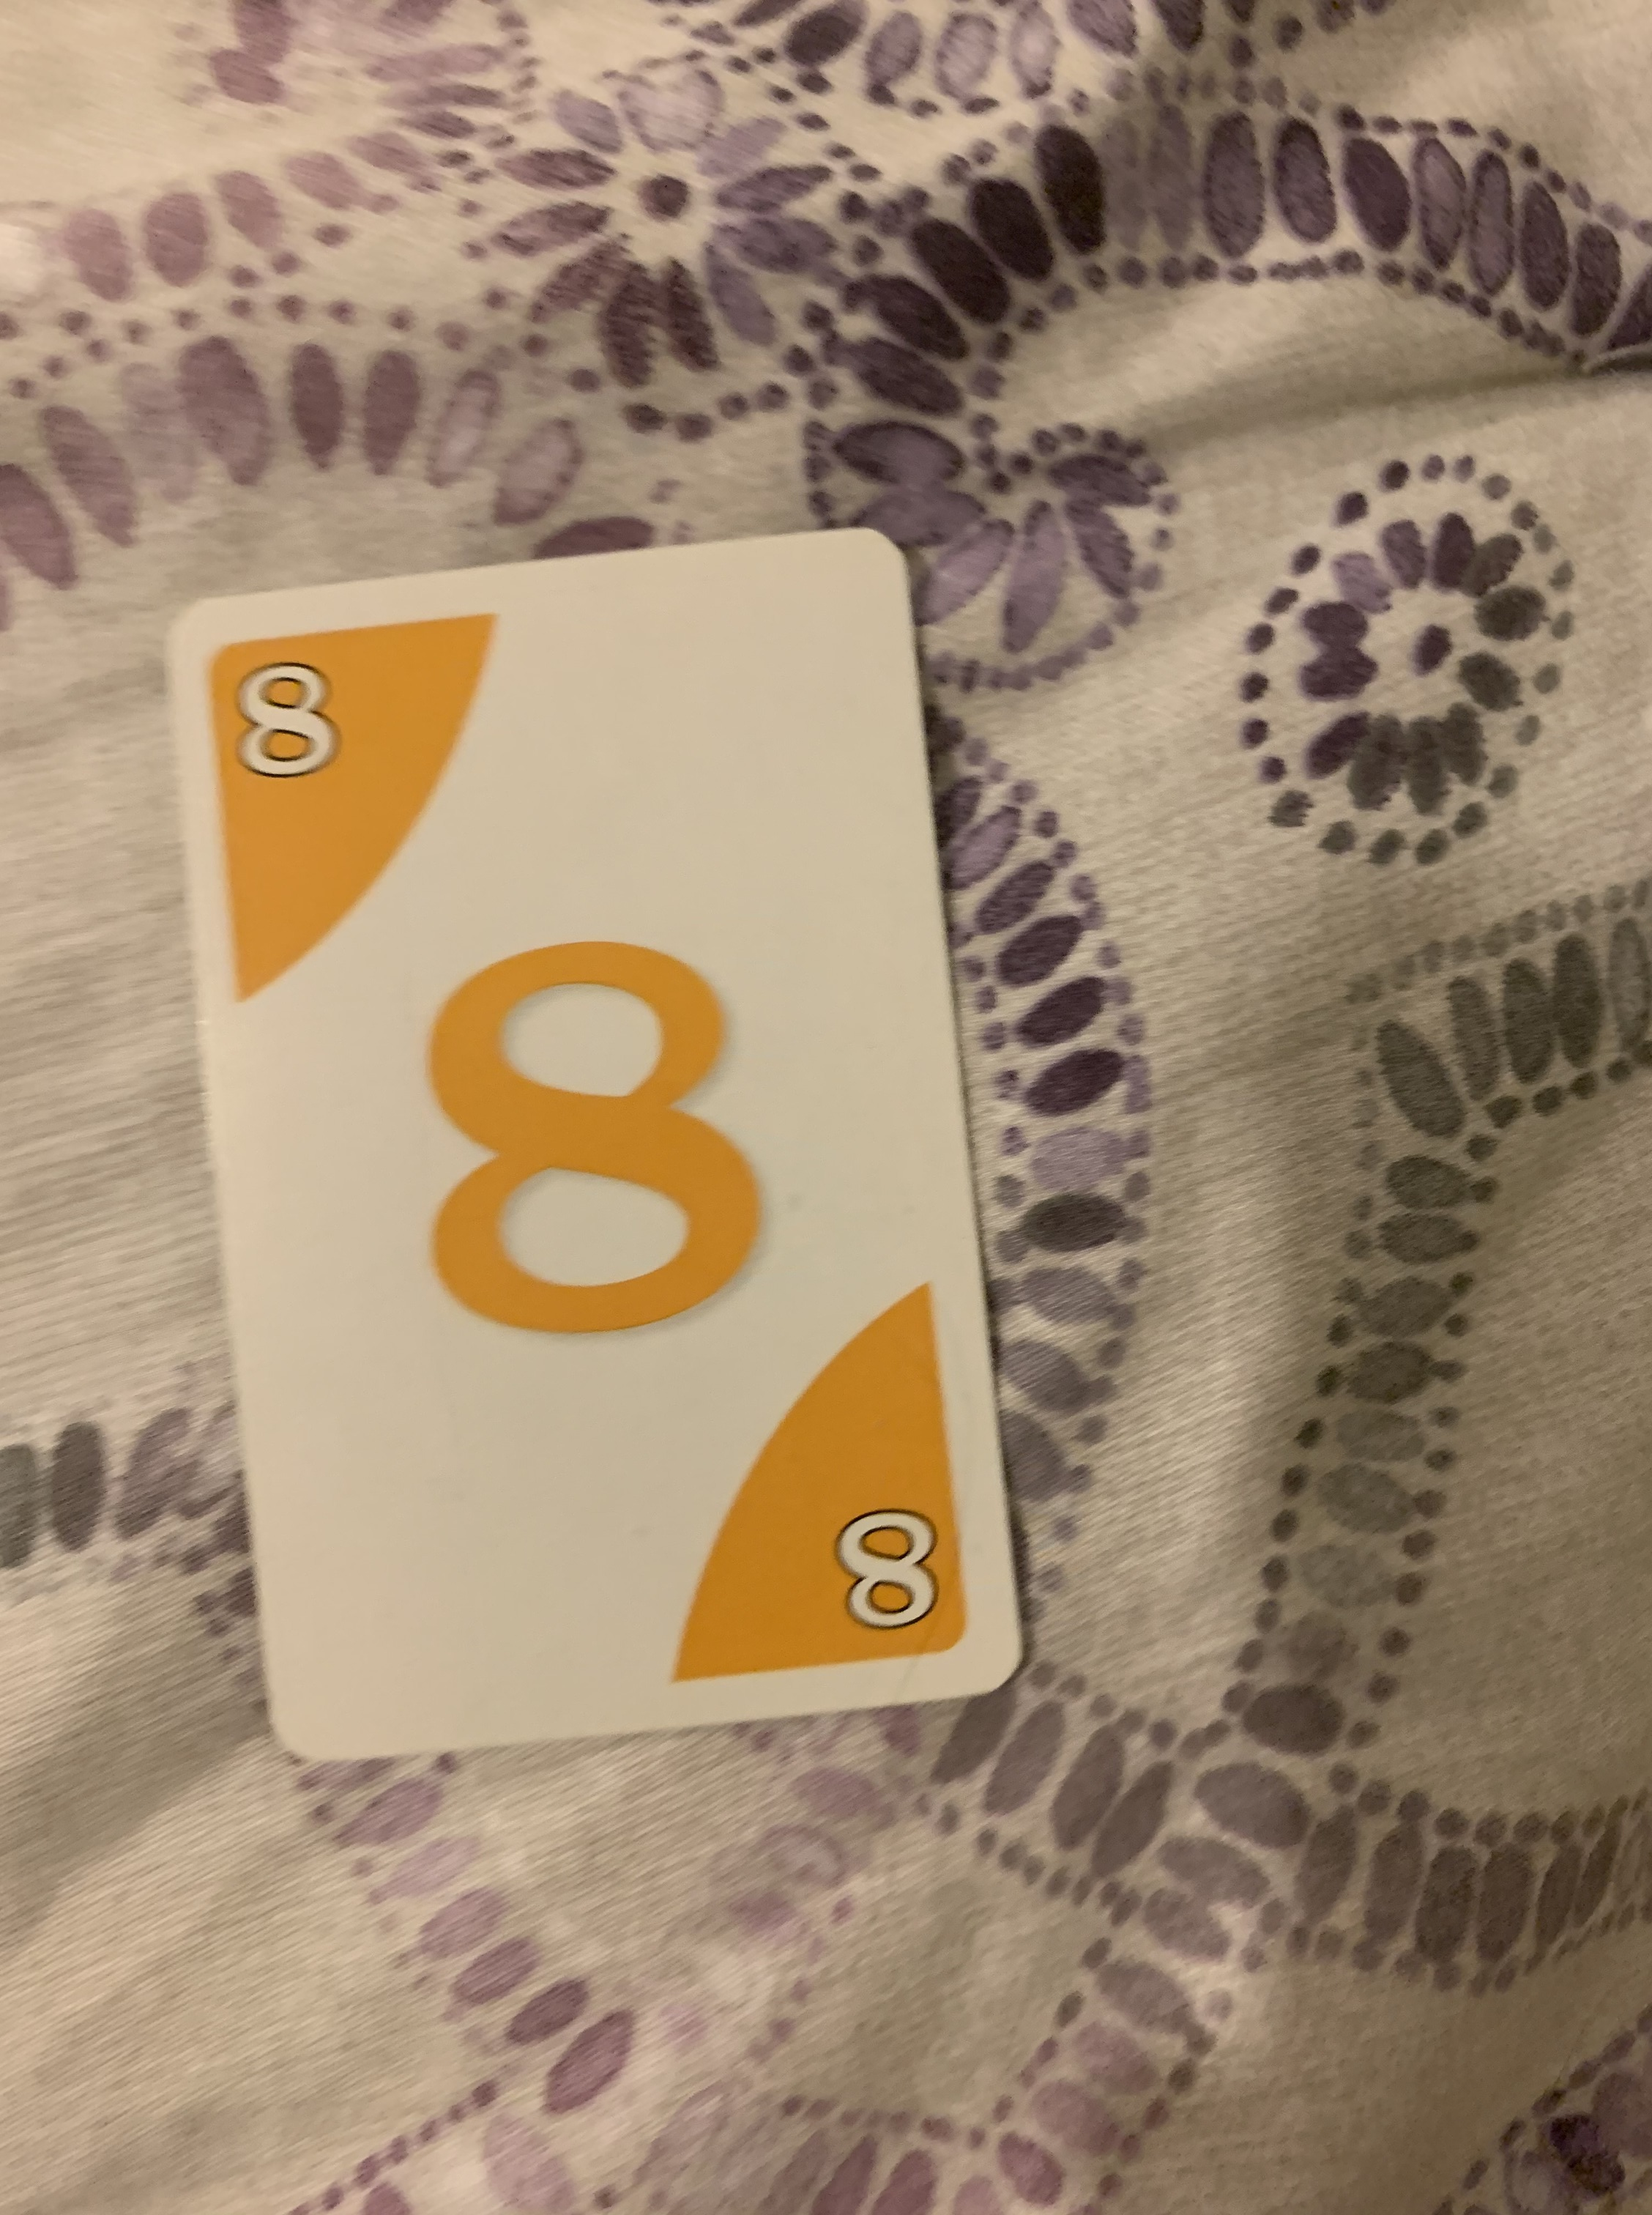eight: (161, 521, 1026, 1765)
